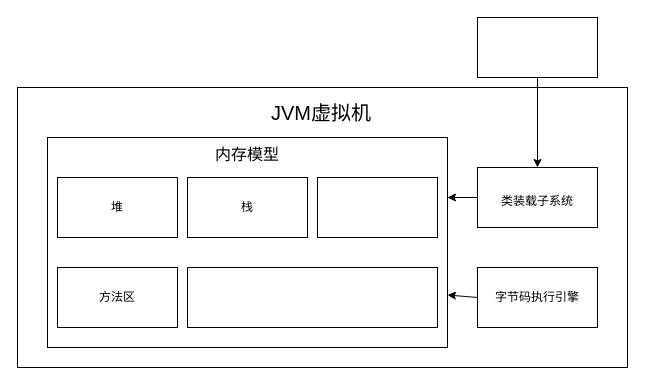
This 645x385 diagram has some shape labels left out. The shapes that lost their labels are listed below. From the top down, each one's centre as x and y in pixels, then its label:
At pixel 537 47: "java 运行类".
At pixel 377 207: "本地方法栈".
At pixel 312 297: "程序计数器".
